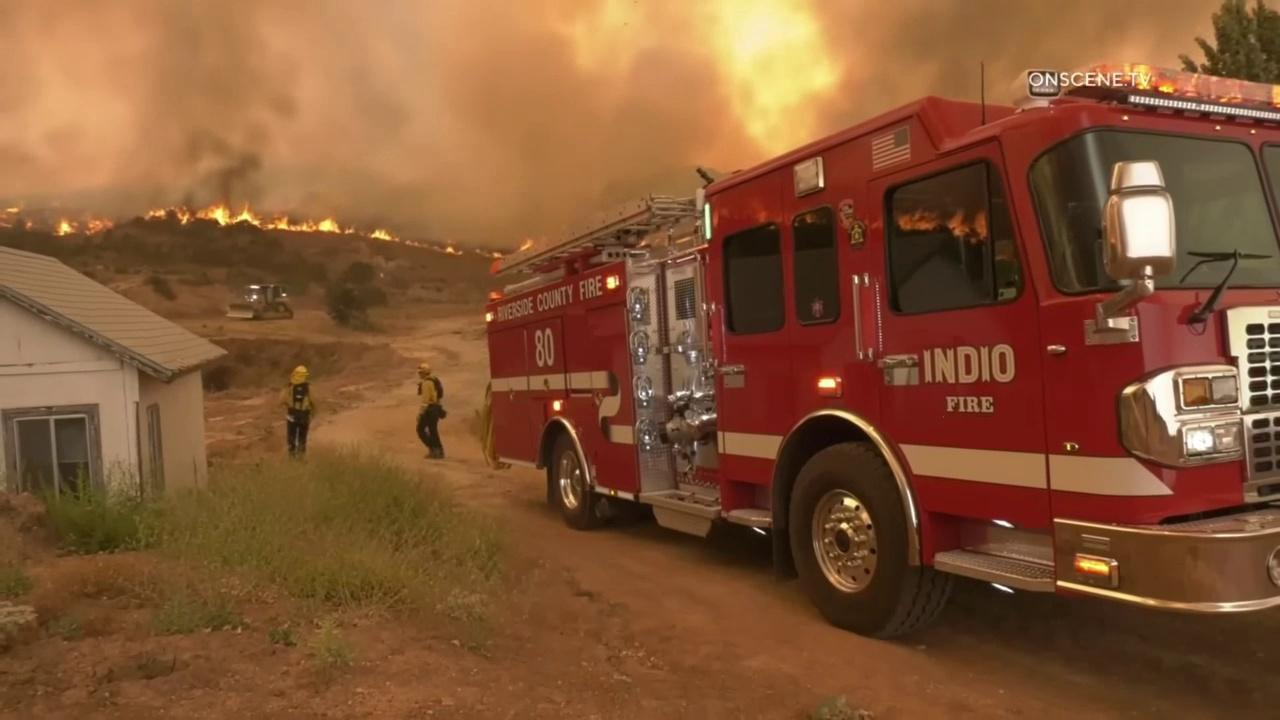fire: (145, 199, 357, 236), (405, 240, 463, 255), (83, 214, 114, 238), (368, 226, 400, 245), (52, 216, 77, 239), (475, 248, 504, 258), (518, 237, 533, 252), (5, 206, 19, 213), (25, 221, 32, 231)
smoke: (0, 0, 1222, 256)
